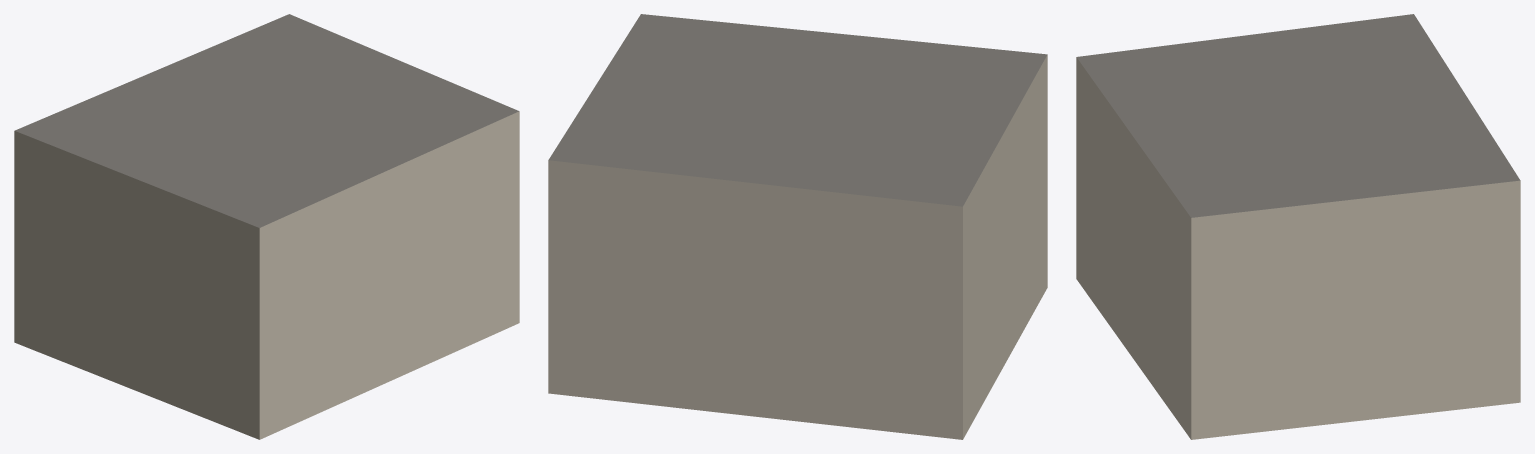
3 views of the same model, side by side, from view 1: azimuth 30°, elevation 25°; view 2: azimuth 150°, elevation 25°; view 3: azimuth 270°, elevation 25° (orthographic). The views are drawn at different scales.
Visible parts, largest first — view 1: HP-w380339847; view 2: HP-w380339847; view 3: HP-w380339847.
Boxes of the visible parts, left/top/right/bottom form: HP-w380339847: left=14, top=14, right=519, bottom=439; HP-w380339847: left=548, top=14, right=1047, bottom=439; HP-w380339847: left=1076, top=14, right=1520, bottom=439.
Size of the model in its own units: 23.63 by 12 by 21.75.
